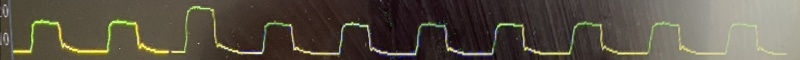normal_pressure: (0, 12, 800, 60)
